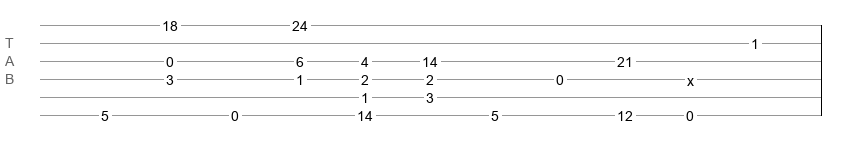0: (166, 54, 174, 64), (231, 108, 239, 118), (556, 72, 564, 82), (686, 108, 694, 118)
1: (296, 72, 304, 82), (361, 90, 369, 100), (751, 36, 759, 46)
12: (617, 108, 633, 118)
14: (357, 108, 373, 118), (422, 54, 438, 64)
18: (162, 18, 178, 28)
2: (361, 72, 369, 82), (426, 72, 434, 82)
21: (617, 54, 633, 64)
24: (292, 18, 308, 28)
3: (166, 72, 174, 82), (426, 90, 434, 100)
4: (361, 54, 369, 64)
5: (101, 108, 109, 118), (491, 108, 499, 118)
6: (296, 54, 304, 64)
x: (687, 73, 694, 81)
